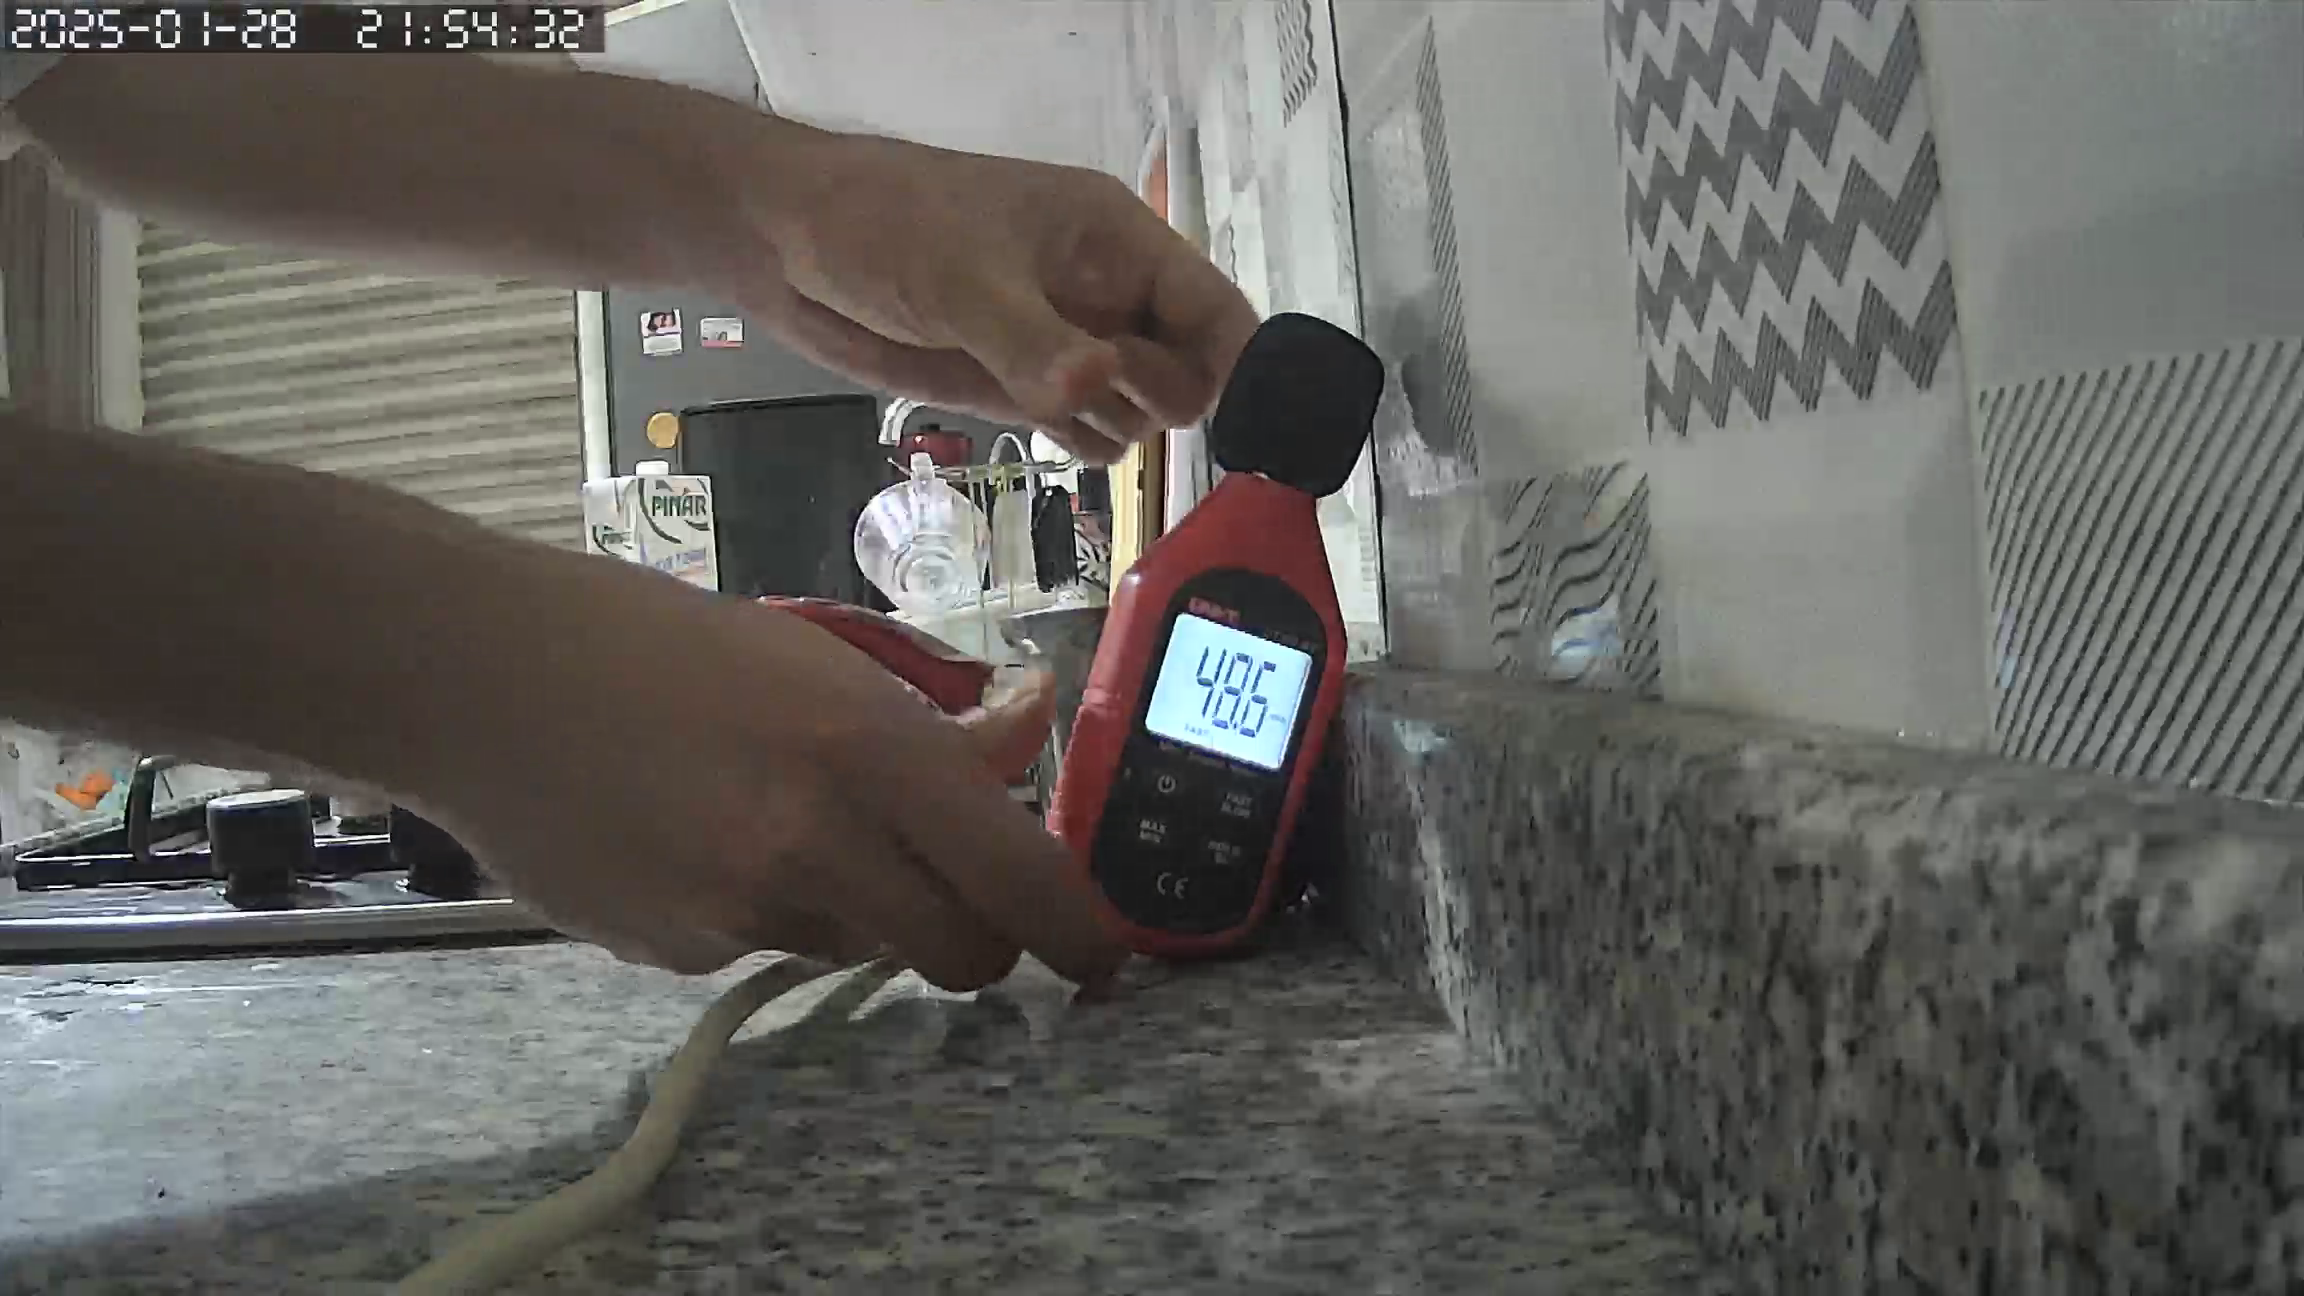screen: (1147, 606, 1310, 775)
